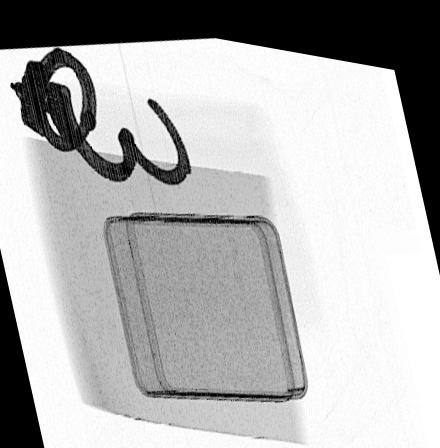HandCuffs: (9, 45, 192, 180)
